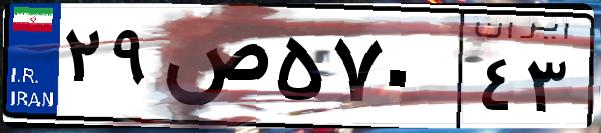0: (385, 28, 445, 110)
2: (57, 26, 110, 100)
3: (525, 38, 570, 115)
4: (475, 38, 525, 113)
5: (270, 28, 330, 110)
7: (330, 28, 385, 110)
9: (110, 28, 158, 98)
ص: (158, 20, 270, 120)
